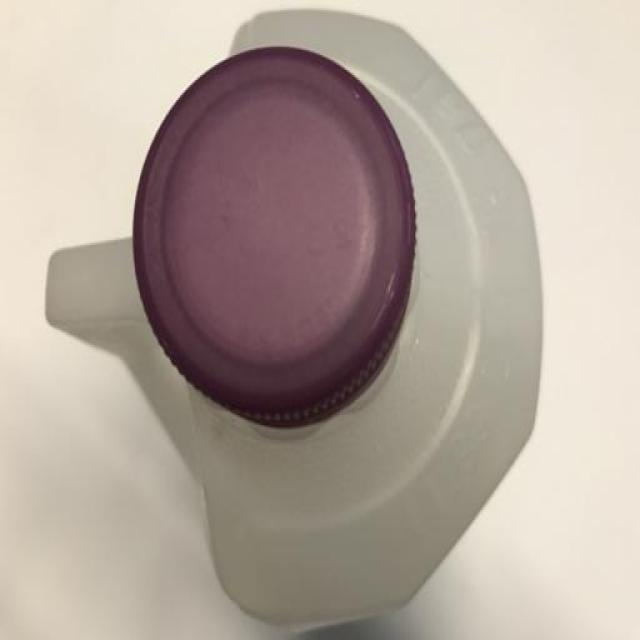inorganic: (44, 10, 545, 637)
